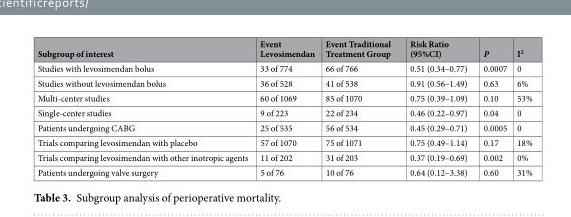table: (36, 37, 531, 178)
table column: (36, 37, 253, 178), (319, 37, 399, 178), (399, 37, 474, 178), (253, 37, 319, 178), (474, 37, 511, 178), (511, 37, 531, 178)
table column header: (36, 37, 531, 60)
table row: (36, 37, 531, 60), (36, 60, 531, 75), (36, 75, 531, 90), (36, 90, 531, 105), (36, 119, 531, 134), (36, 134, 531, 149), (36, 149, 531, 164), (36, 105, 531, 119), (36, 164, 531, 178)
